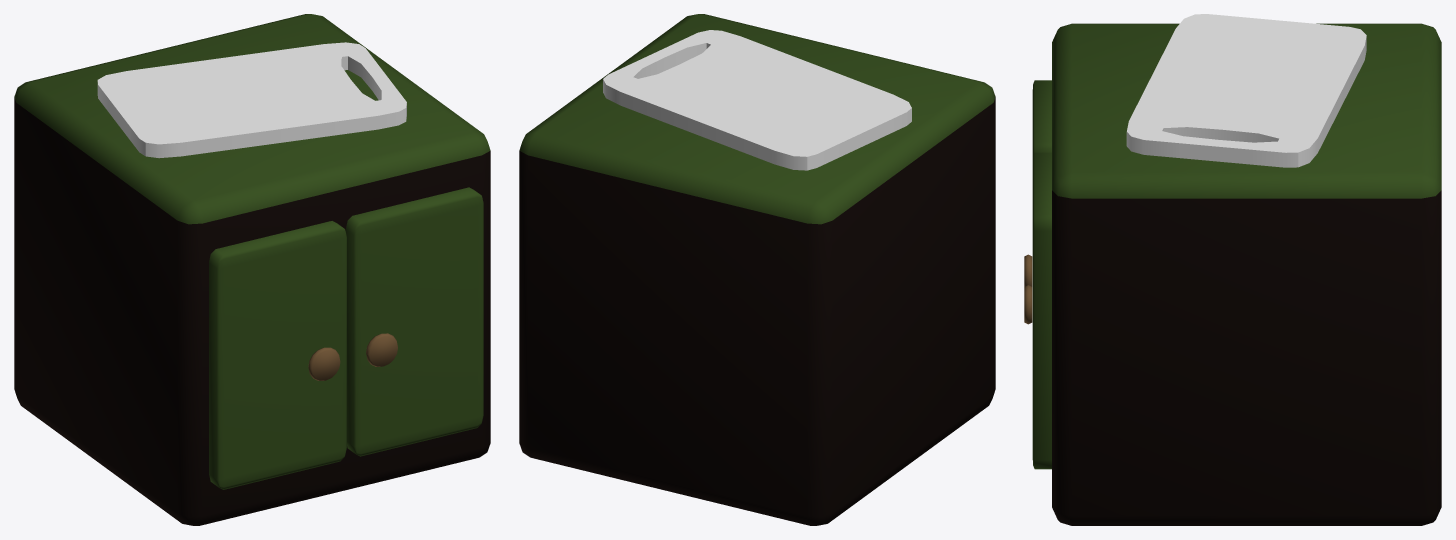
The model's file is Cutting board.fbx.
The picture shows the model from 3 angles, left to right: view 1: azimuth 30°, elevation 25°; view 2: azimuth 150°, elevation 25°; view 3: azimuth 270°, elevation 25°; orthographic projection. The views are drawn at different scales.
Parts seen in each view (by area): view 1: Grill.010, Grill.011, Plane, Circle.009; view 2: Grill.010, Plane; view 3: Grill.010, Plane, Grill.011, Circle.009.
Part boxes in pixels (bbox=[...]): Grill.010: bbox=[14, 14, 490, 525]; Grill.011: bbox=[209, 187, 483, 489]; Plane: bbox=[97, 42, 406, 158]; Circle.009: bbox=[308, 333, 397, 380]; Grill.010: bbox=[519, 14, 995, 525]; Plane: bbox=[603, 30, 911, 170]; Grill.010: bbox=[1052, 23, 1441, 525]; Plane: bbox=[1126, 14, 1366, 167]; Grill.011: bbox=[1032, 80, 1051, 469]; Circle.009: bbox=[1024, 254, 1032, 324].
Bounding box in the file's own units: 100 × 104 × 107.
